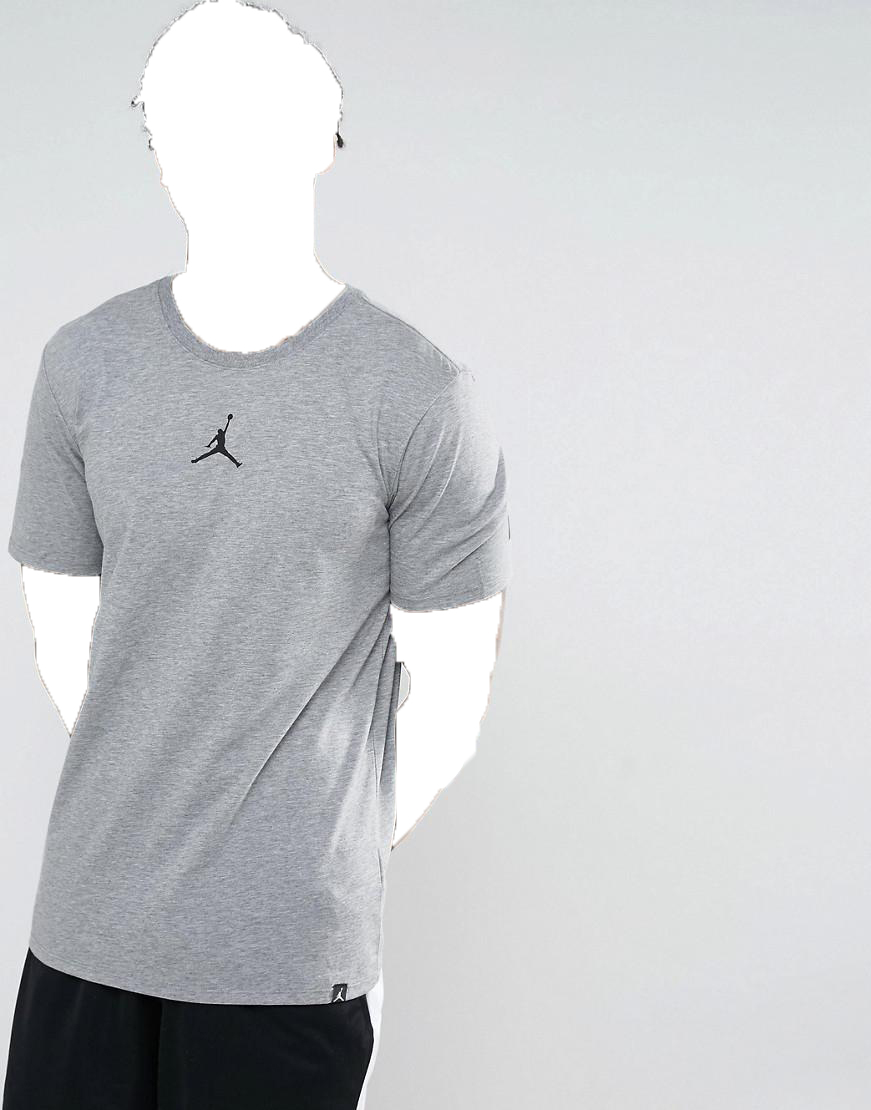teeshirt: (7, 278, 525, 1013)
